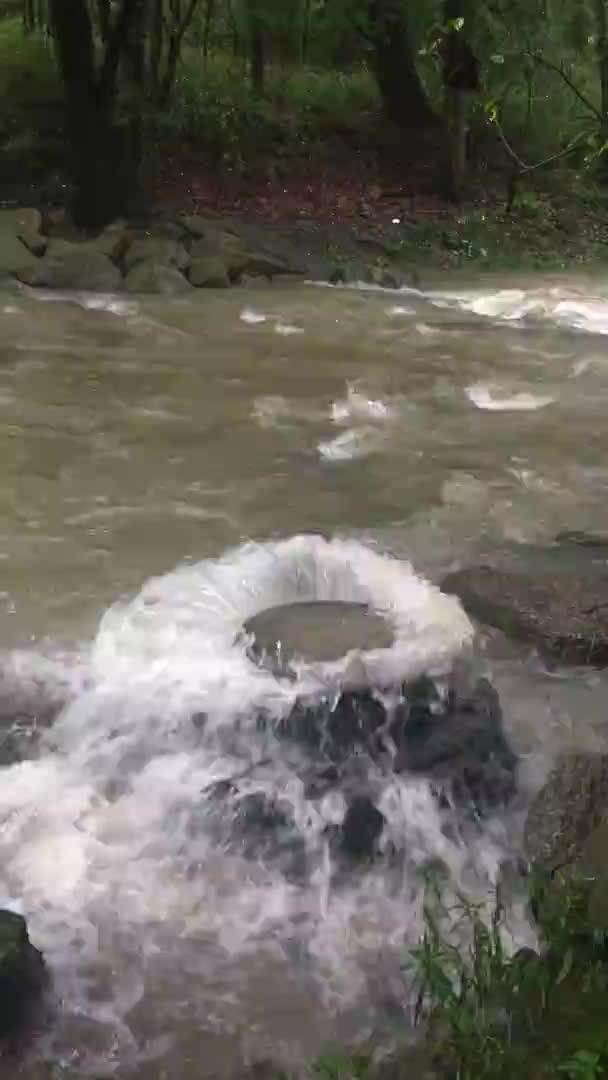drainage_overflow: (0, 518, 516, 933)
